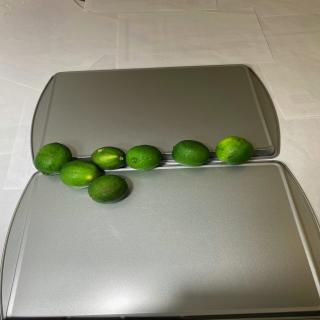Chilli: (33, 135, 255, 204)
Lemon: (33, 142, 72, 176), (88, 174, 128, 204), (215, 136, 254, 165), (60, 160, 100, 188), (171, 140, 210, 167), (125, 144, 162, 170), (91, 146, 126, 170)
